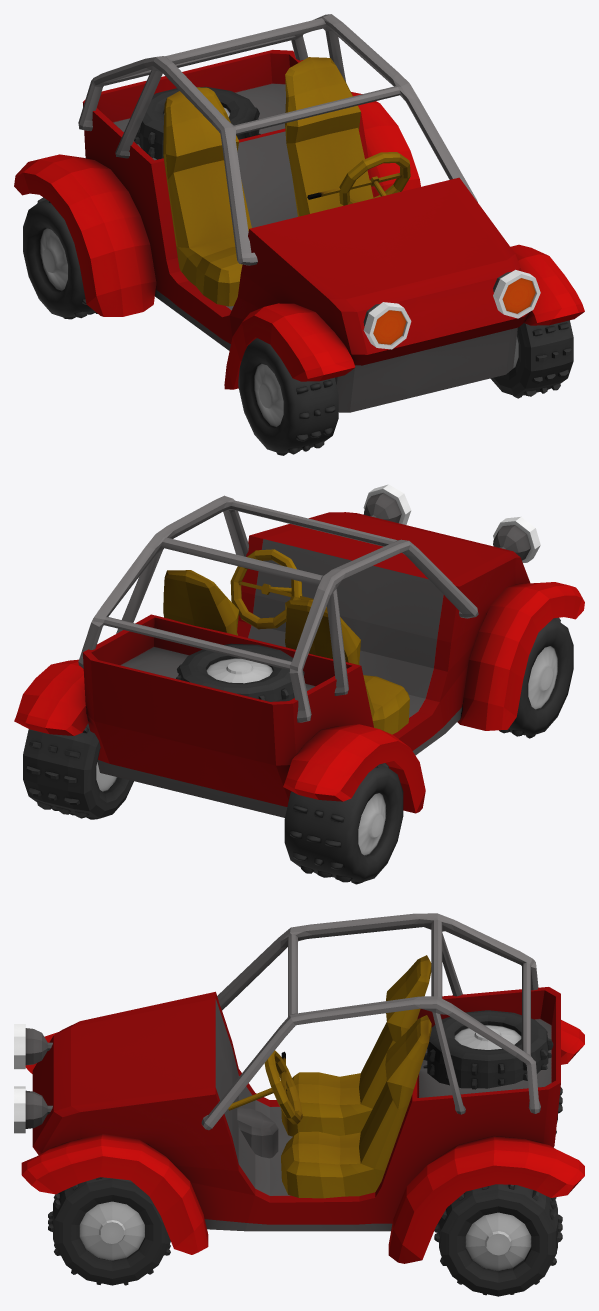
Rendered from JeepNoArm.fbx.
The picture shows the model from 3 angles, top to bottom: view 1: azimuth 30°, elevation 25°; view 2: azimuth 150°, elevation 25°; view 3: azimuth 270°, elevation 25°; orthographic projection.
Visible parts, largest first — view 1: jeep, jeep_w1.R, jeep_w2.R, jeep_w1.L; view 2: jeep, jeep_w2.R, jeep_w2.L, jeep_w1.R; view 3: jeep, jeep_w2.L, jeep_w1.L.
Part boxes in pixels (box(x1,y1,x2,y2)): jeep: box(14, 14, 584, 412); jeep_w1.R: box(238, 338, 338, 455); jeep_w2.R: box(23, 197, 97, 319); jeep_w1.L: box(490, 320, 573, 398); jeep: box(14, 484, 584, 817); jeep_w2.R: box(284, 763, 403, 884); jeep_w2.L: box(23, 723, 133, 819); jeep_w1.R: box(499, 617, 573, 738); jeep: box(14, 913, 584, 1263); jeep_w2.L: box(434, 1184, 562, 1296); jeep_w1.L: box(48, 1177, 170, 1285).
Bounding box in the file's own units: 228 × 175 × 341.
